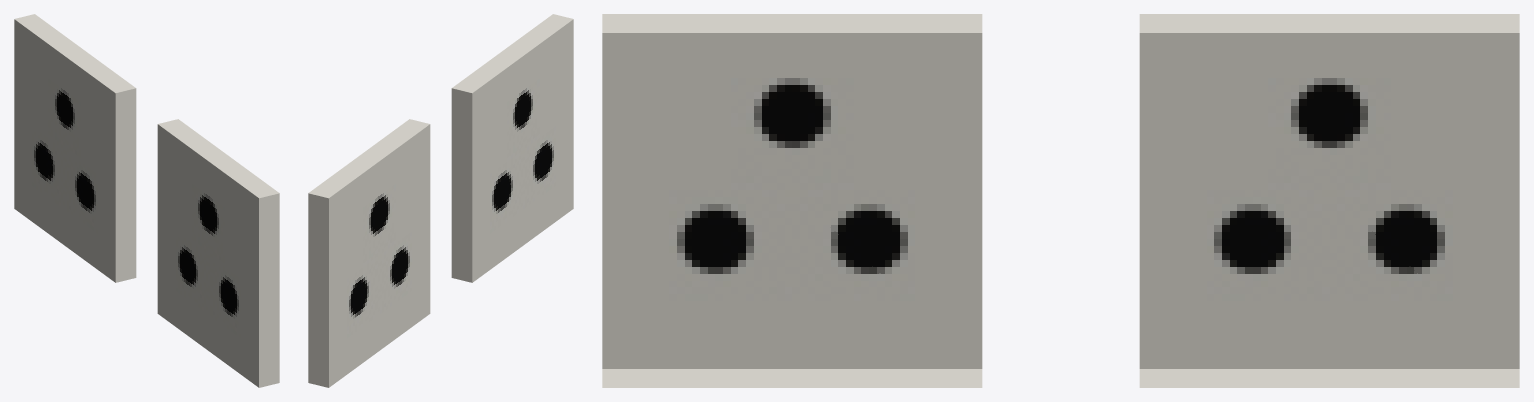
The model's file is Socket.FBX.
3 views of the same model, side by side, from view 1: azimuth 30°, elevation 25°; view 2: azimuth 150°, elevation 25°; view 3: azimuth 270°, elevation 25° (orthographic). The views are drawn at different scales.
Visible parts, largest first — view 1: Box163; view 2: Box163; view 3: Box163.
Boxes of the visible parts, x1,y1,x2,y2 form: Box163: (14,14,279,387); Box163: (308,14,573,387); Box163: (602,14,1519,387).
Bounding box in the file's own units: 2.65 × 23.21 × 54.34.
1 material, 1 textured.
